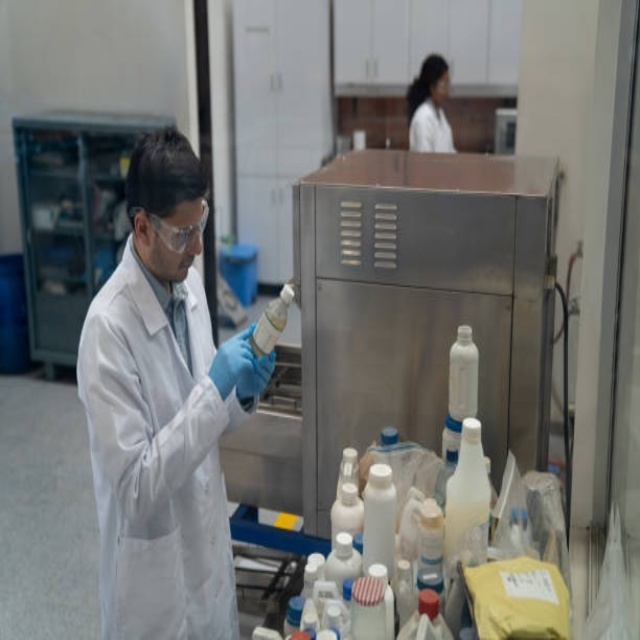Gafas: (141, 201, 209, 255)
Guantes: (209, 324, 274, 407)
Sin_mascara: (164, 254, 197, 285)
